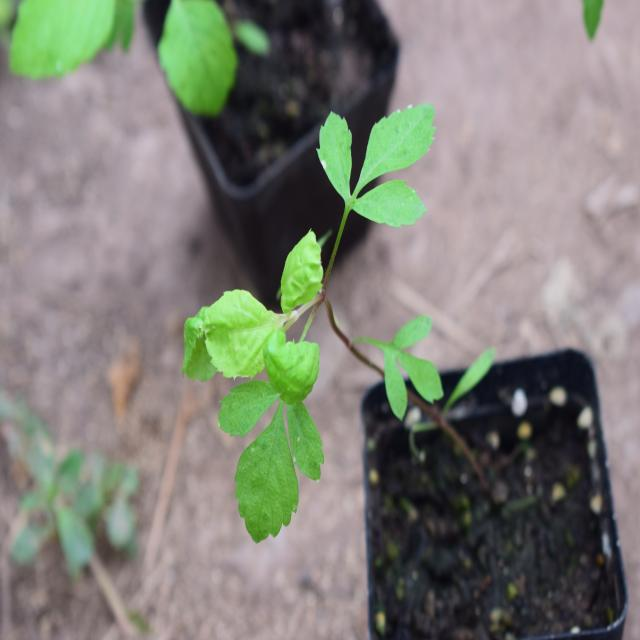Bidens pilosa: (169, 115, 482, 537)
